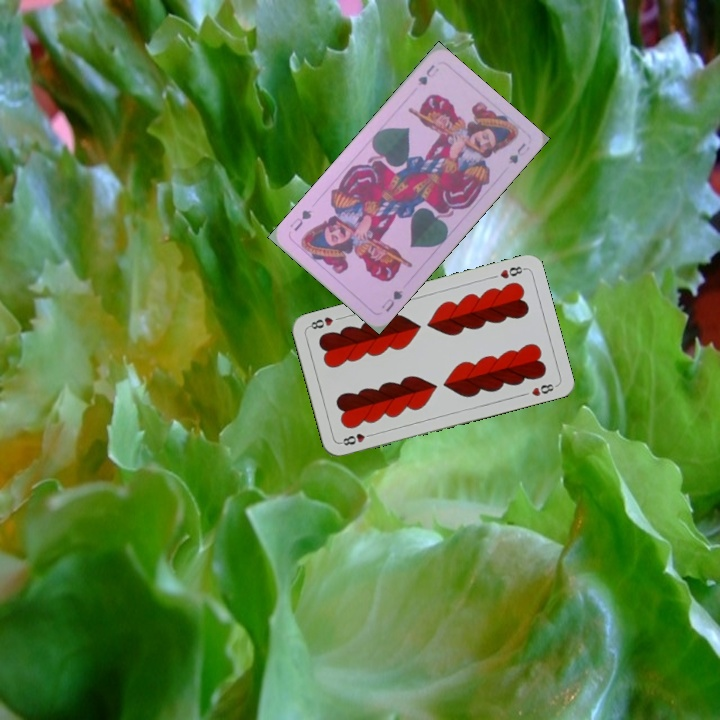GU: (377, 286, 405, 315), (414, 60, 442, 88)
H8: (337, 429, 377, 448), (496, 262, 527, 281)
